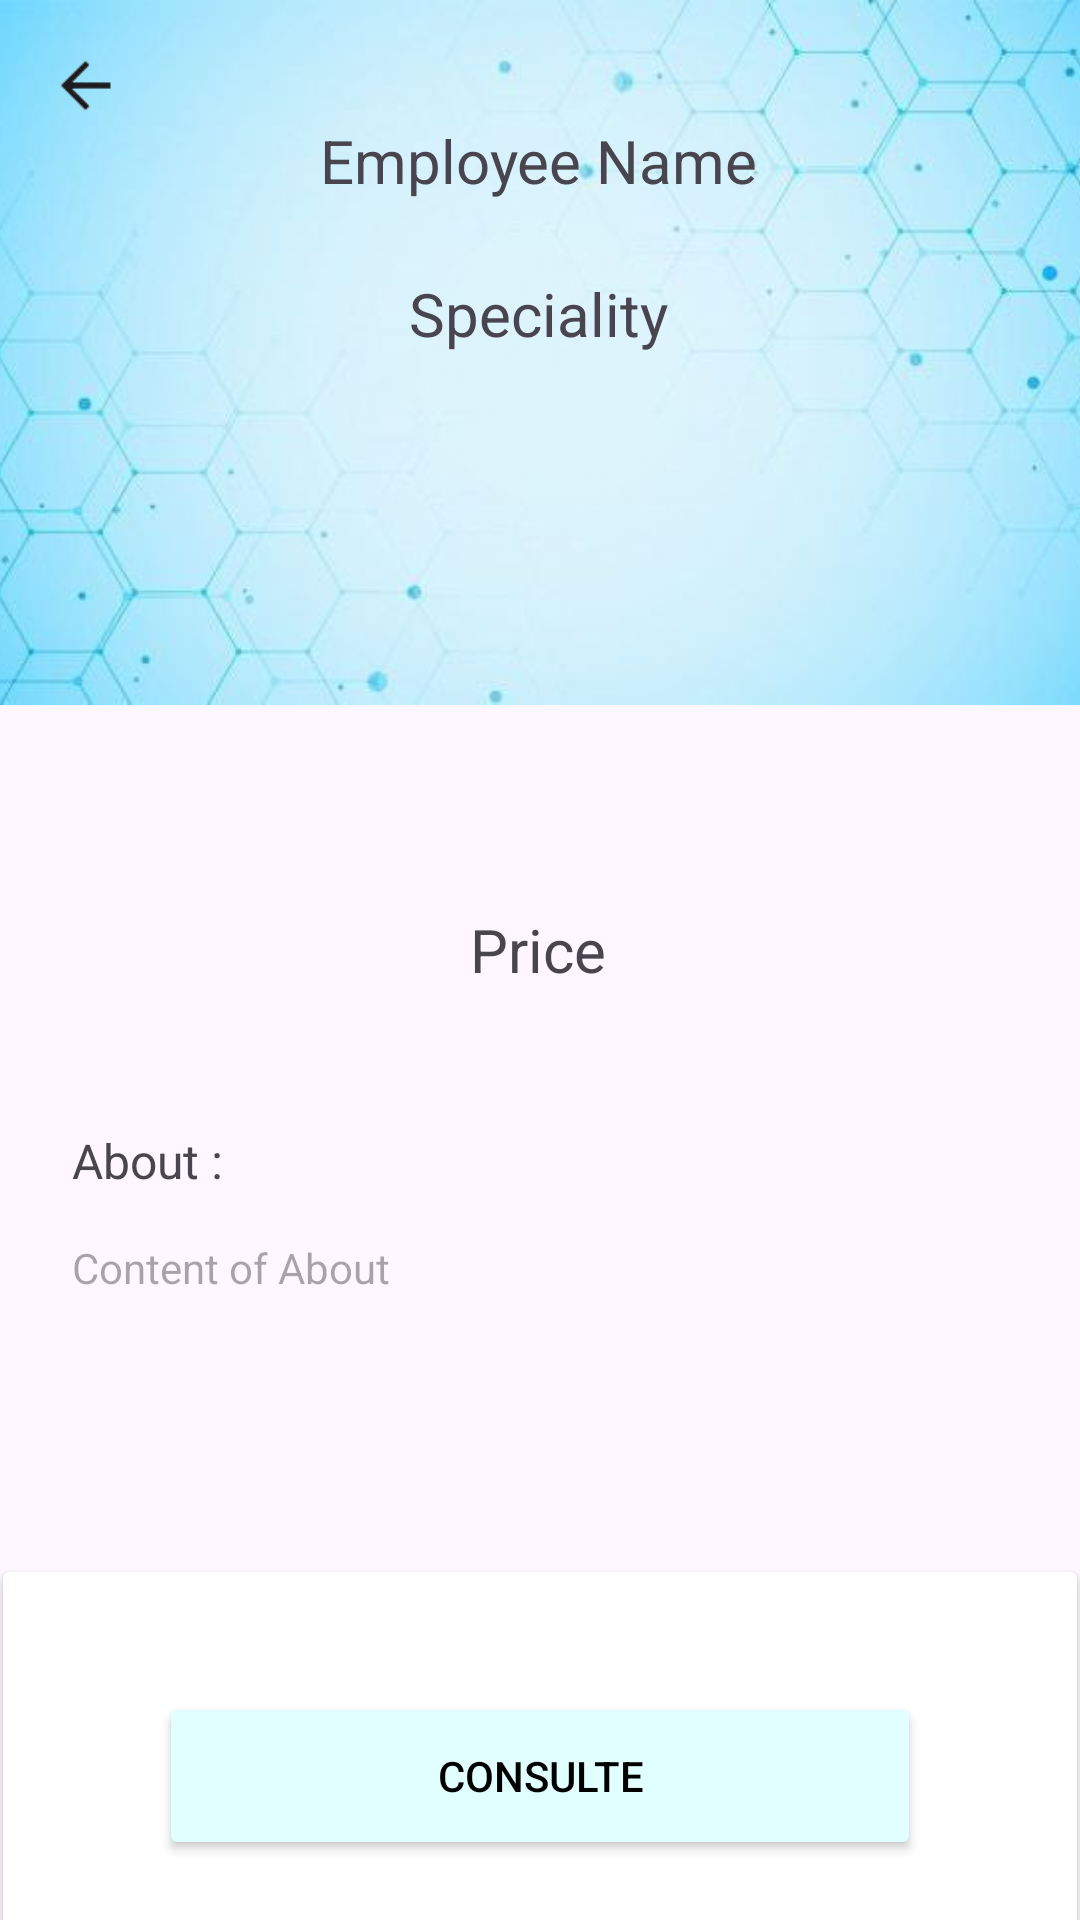

Screen size 1080px x 1920px. Icon name, then its center in pixels as (x=x, y=y):
back: (x=81, y=85)
